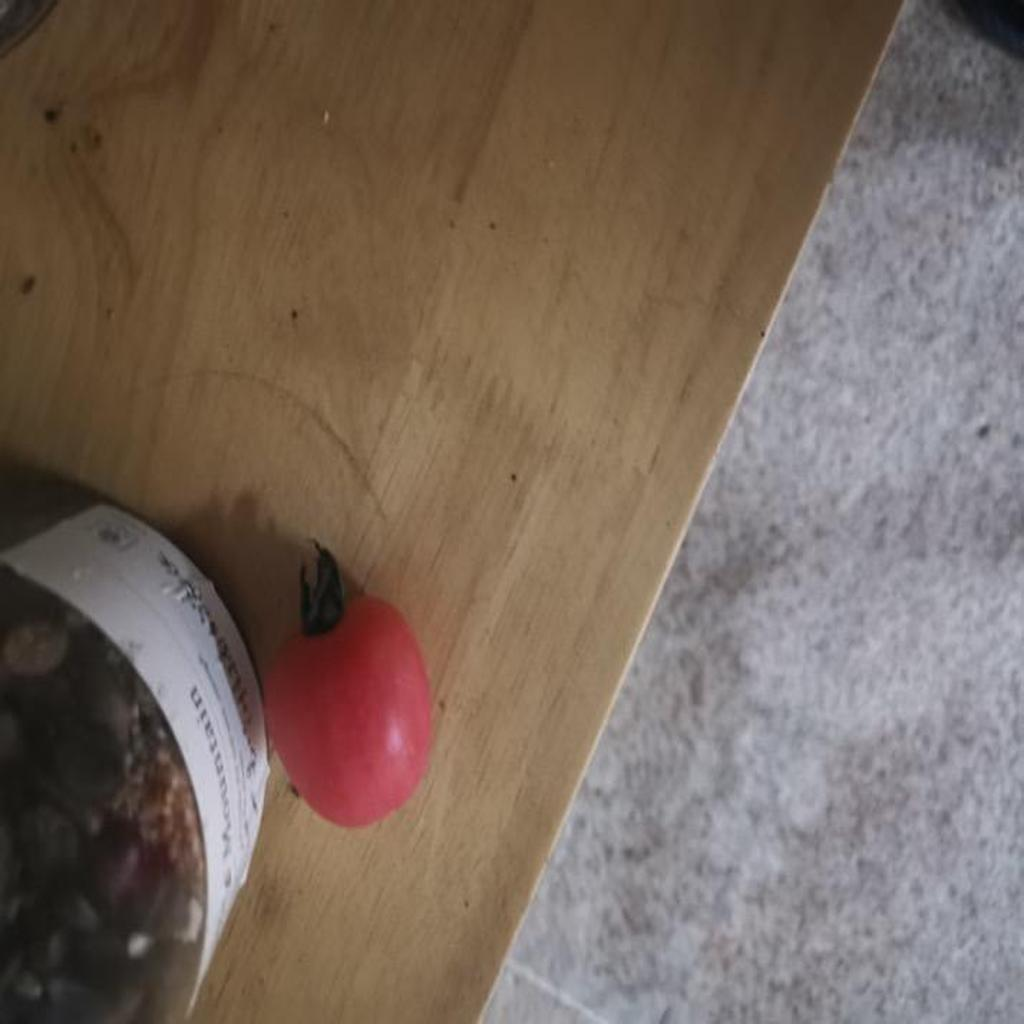tomato: (253, 582, 432, 832)
